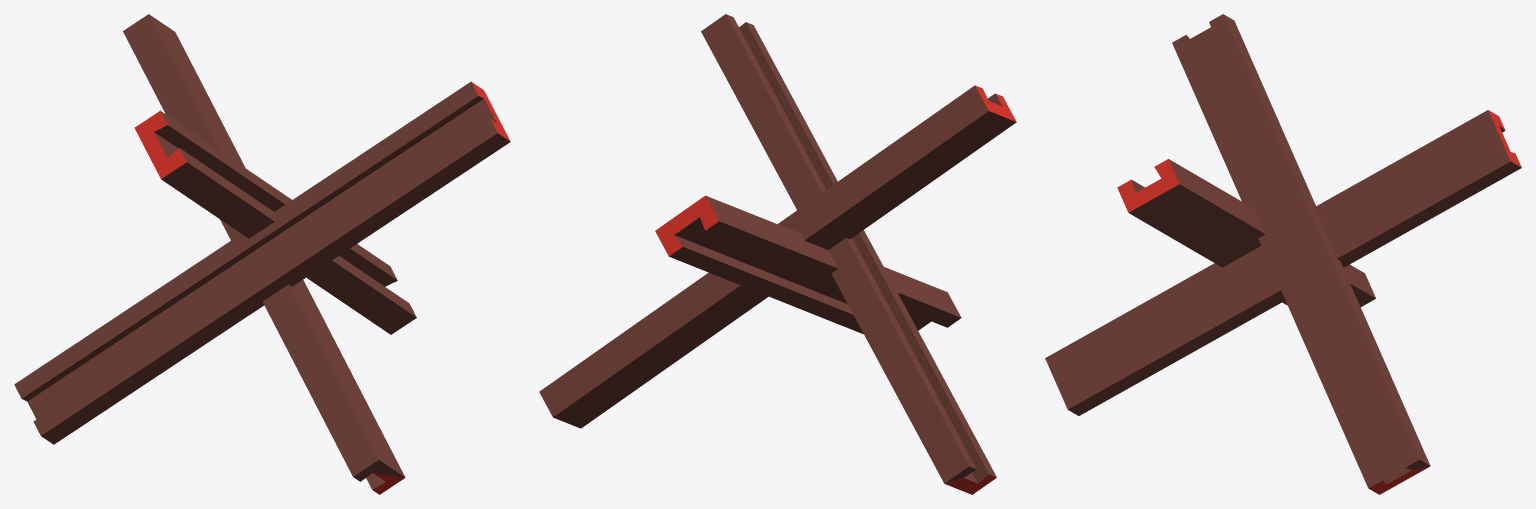
The model's file is item_spike.glb.
3 views of the same model, side by side, from view 1: azimuth 30°, elevation 25°; view 2: azimuth 150°, elevation 25°; view 3: azimuth 270°, elevation 25° (orthographic). The views are drawn at different scales.
Visible parts, largest first — view 1: item_mesh; view 2: item_mesh; view 3: item_mesh.
Part boxes in pixels (<box>): item_mesh: <box>14,14,510,494</box>; item_mesh: <box>539,14,1016,494</box>; item_mesh: <box>1045,14,1521,494</box>.
Bounding box in the file's own units: 0.917 × 0.7819 × 1.
Materials: 1 (1 with a texture image).
